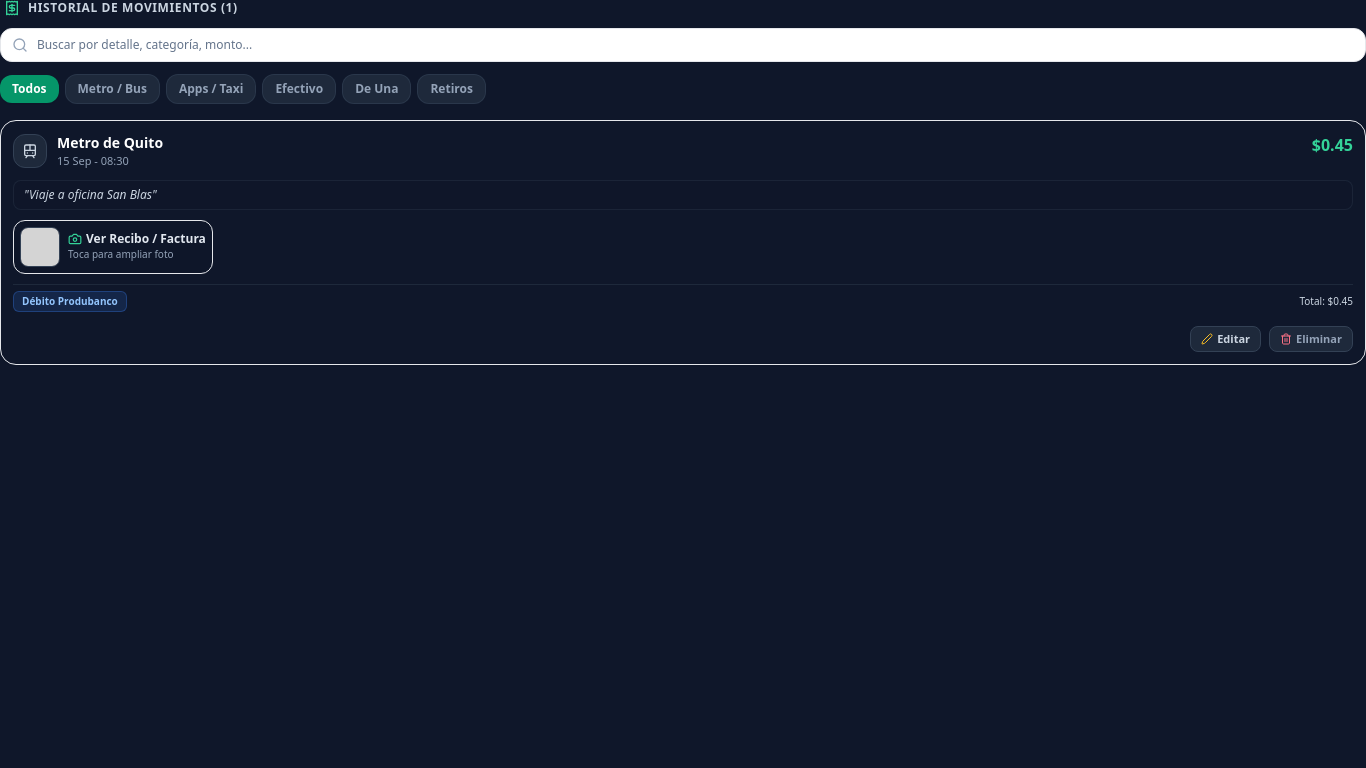
Scenario: TransactionHistory › renders receipt thumbnail and opens full photo modal when clicked
This screenshot has width=1366, height=768.
Expected: the text "Ver Recibo / Factura" is shown, [86,231,206,247]
Expected: the text "Foto de Recibo / Factura" is not shown
// Click thumbnail
Click the button with aria-label "Ver comprobante adjunto". click: (113,246)
box: [13,220,213,274]
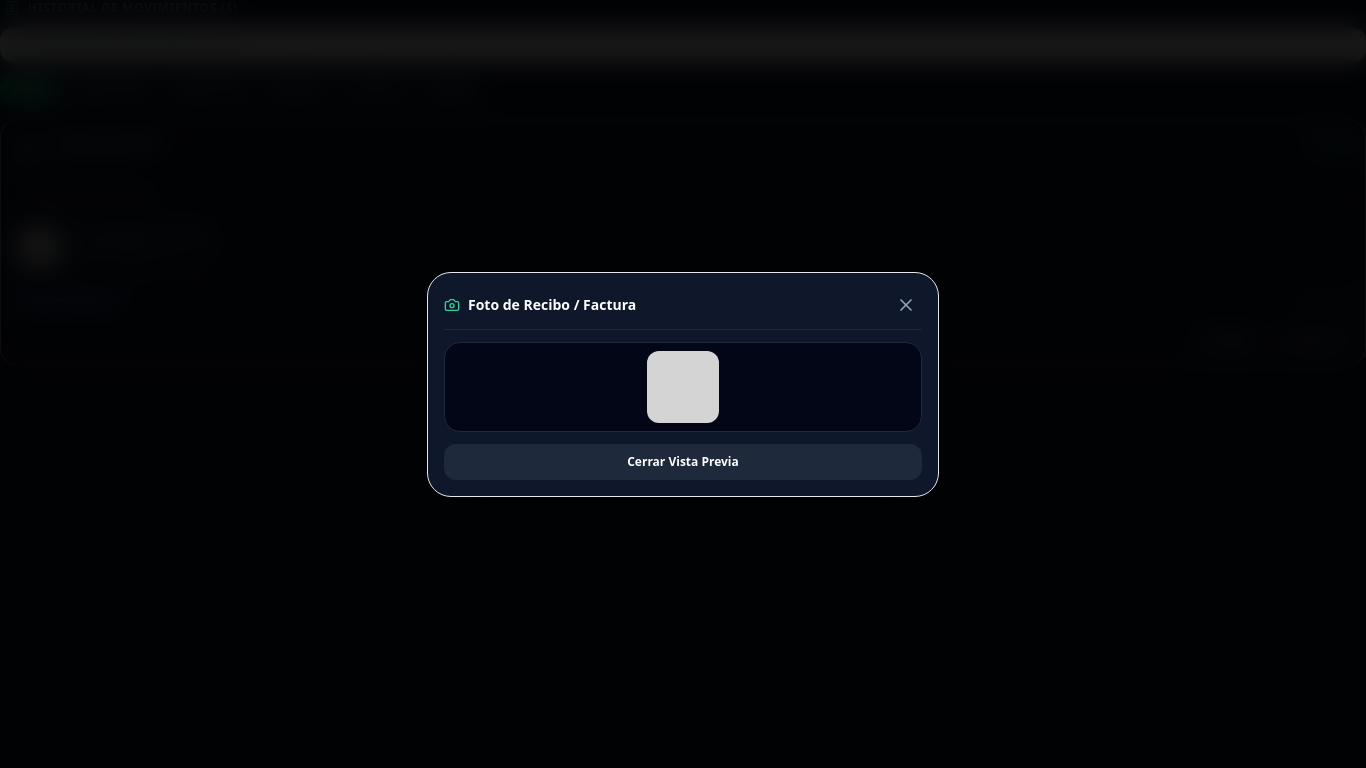
Result: the text "Foto de Recibo / Factura" is shown at [468,294,636,314]
// Close modal via button
Click the button "Cerrar Vista Previa". click: (683,462)
box: [444,444,922,480]
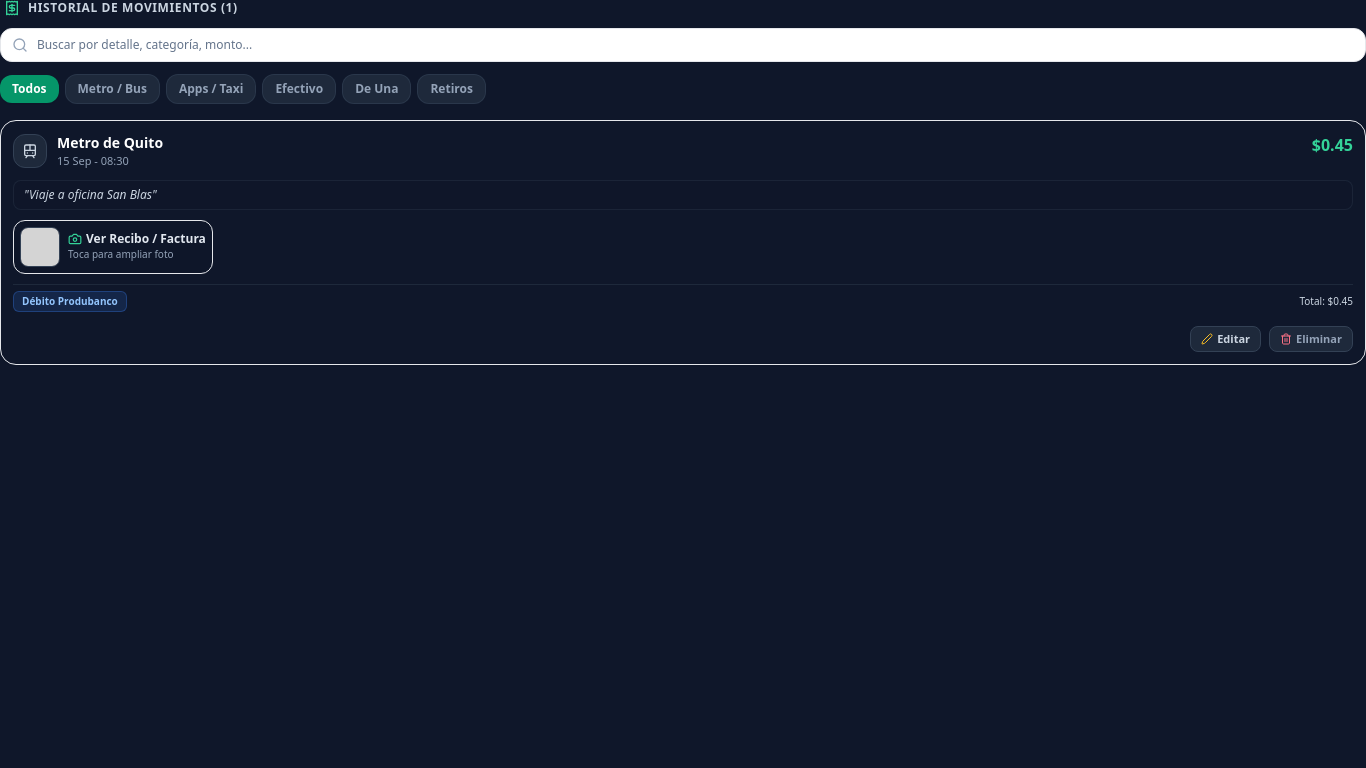
Result: the text "Foto de Recibo / Factura" is gone
